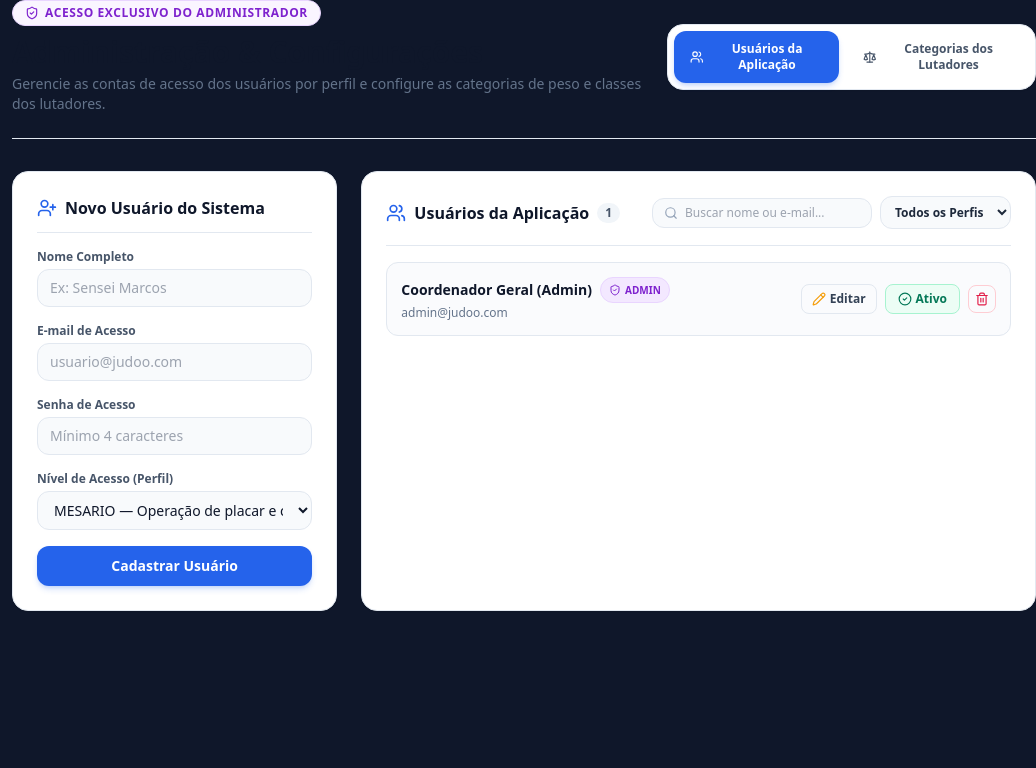
Test case: Chaves (Formato Copa + Yuko) & Configurações Admin (Integration Tests) › permite ao Admin gerenciar usuários e configurar novas categorias de lutadores no módulo de Configurações
The width and height of the screenshot is (1036, 768).
Later steps or results of the test are not shown.
Expected: the text "Coordenador Geral (Admin)" is shown, [401,280,592,300]
In the field with placeholder "Ex: Sensei Marcos": (175, 288) [37,269,312,307], type "Sensei Takeshi"
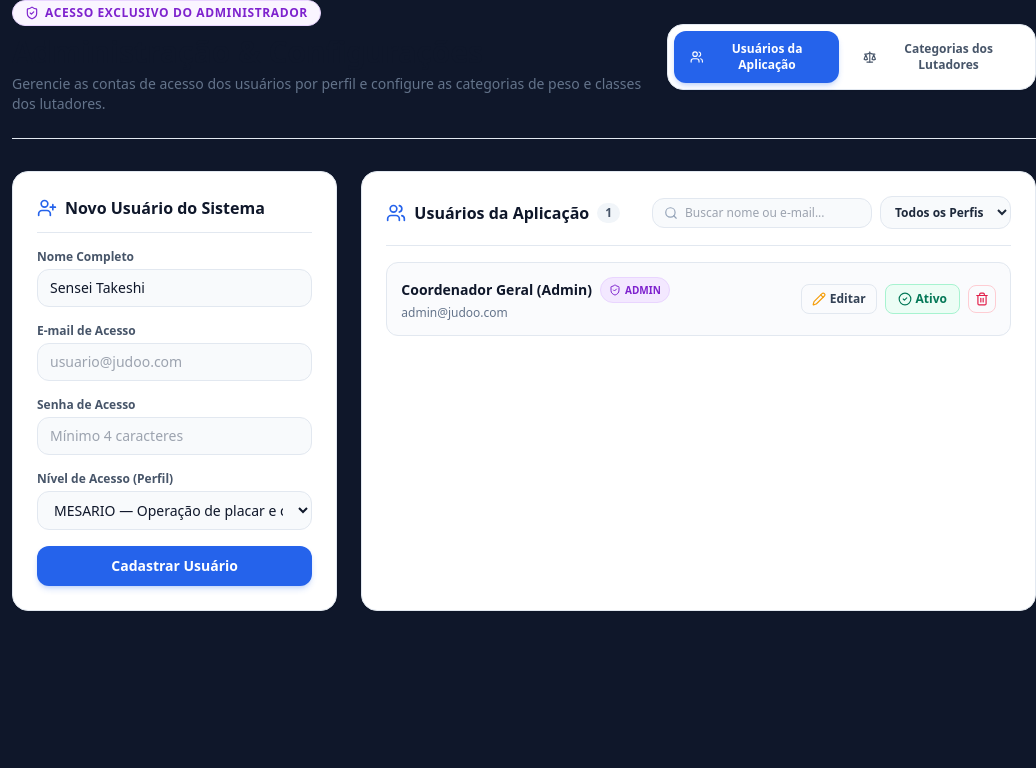
In the field with placeholder "usuario@judoo.com": (175, 362) [37,343,312,381], type "takeshi@judoo.com"
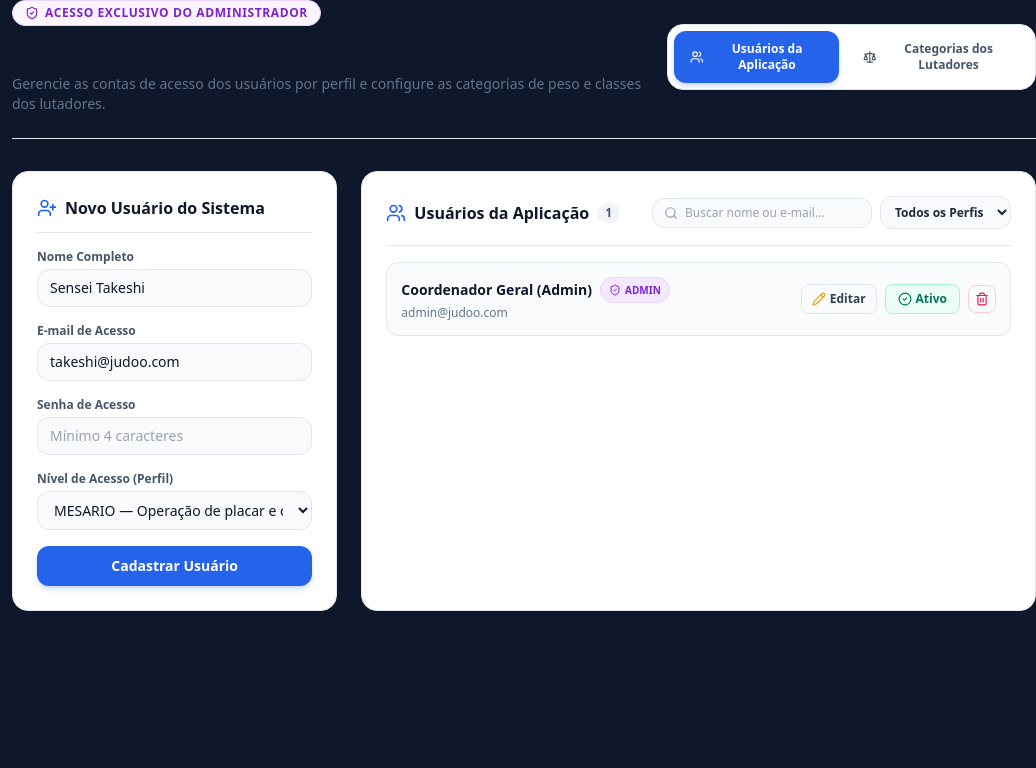
In the password field with placeholder "Mínimo 4 caracteres": (175, 436) [37,417,312,455], type "123456"
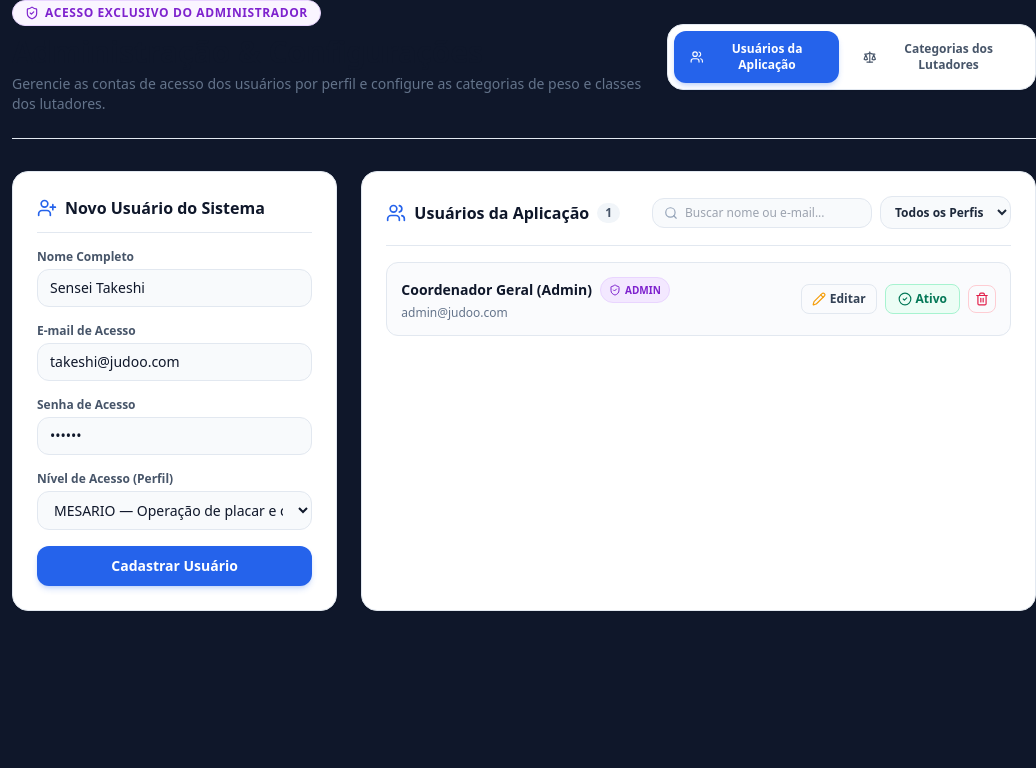
Click the button "Cadastrar Usuário": (175, 566) [37,546,312,586]
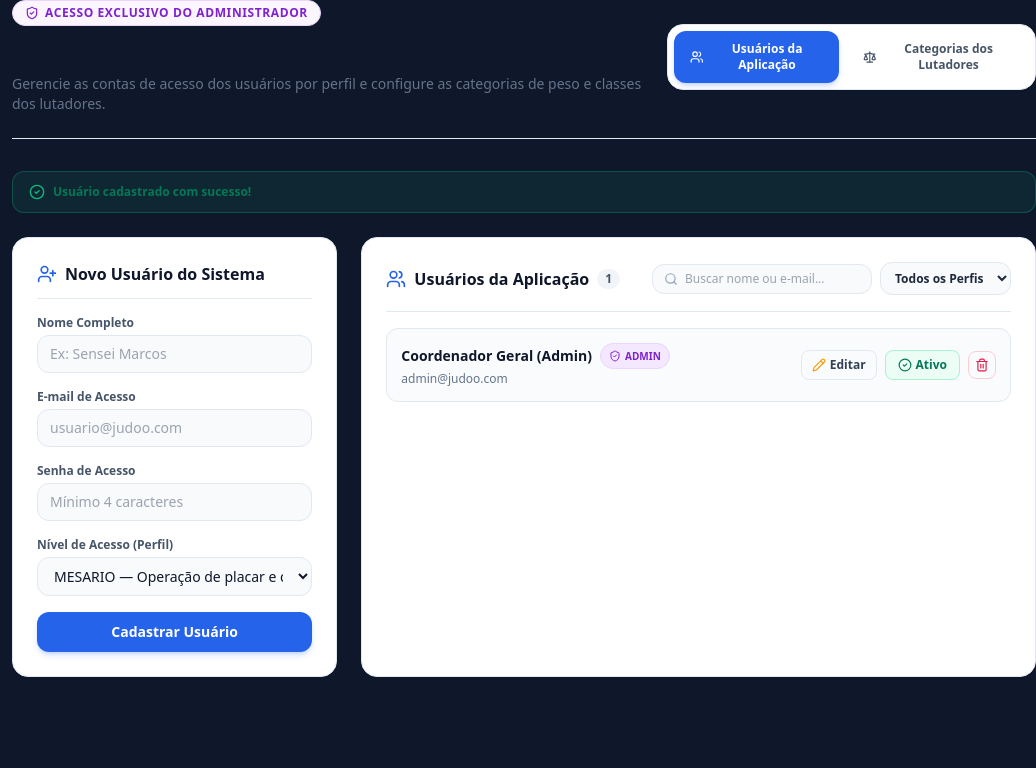
Alterna para a Aba de Categorias dos Lutadores
Click the button "Categorias dos Lutadores": (938, 57) [847,31,1029,83]
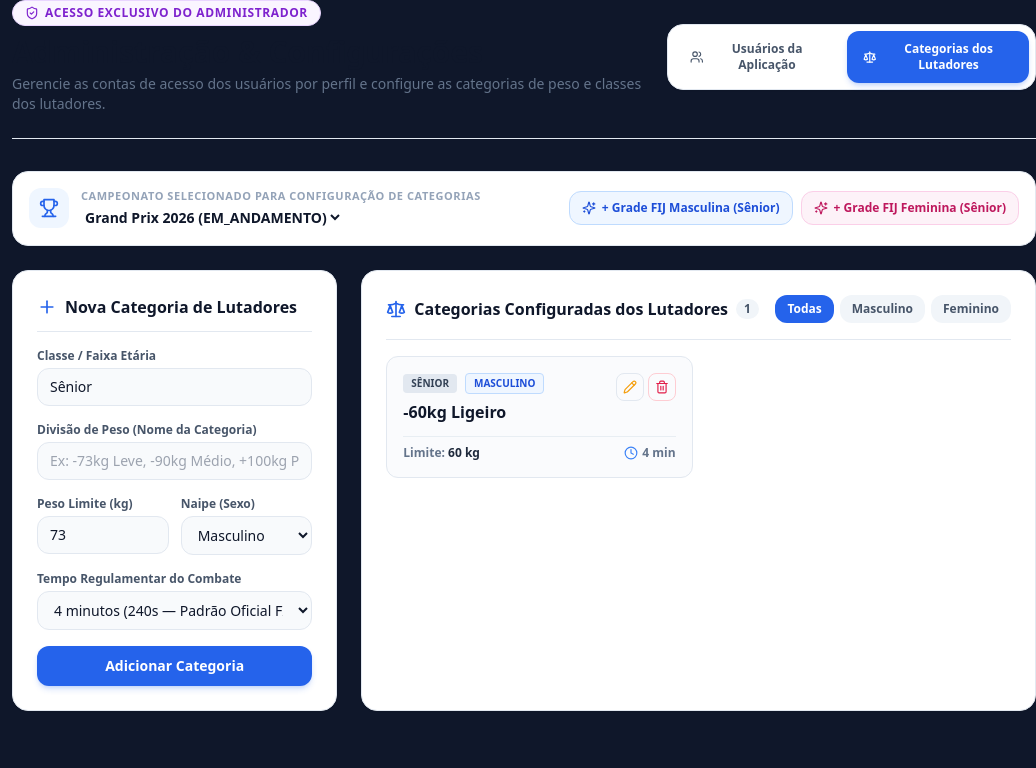
Expected: the heading "-60kg Ligeiro" is shown, [403,400,506,422]
